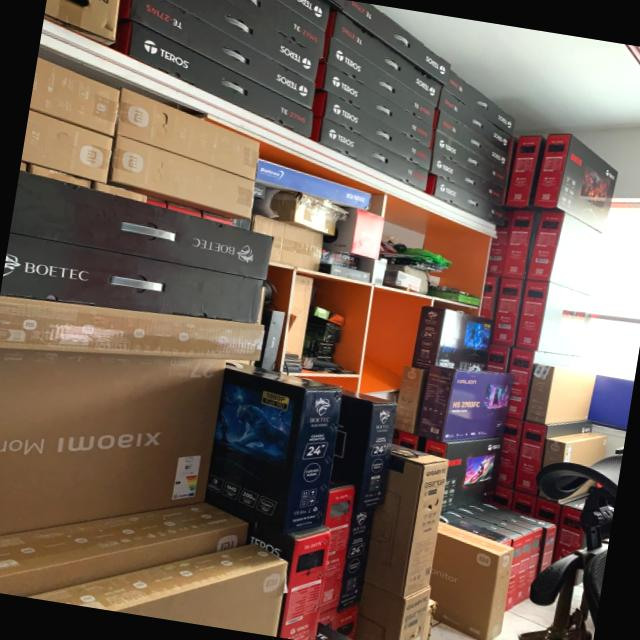caja-monitor: (0, 349, 224, 537), (11, 173, 275, 281), (26, 543, 288, 635), (0, 502, 250, 597), (204, 362, 342, 533), (1, 234, 266, 323), (115, 23, 313, 136), (119, 0, 315, 110), (0, 298, 265, 361), (119, 87, 259, 181), (162, 0, 317, 83), (364, 443, 448, 596), (113, 138, 253, 220), (327, 12, 443, 107), (429, 521, 513, 640), (322, 39, 435, 126), (317, 64, 432, 149), (249, 522, 330, 640), (314, 92, 431, 171), (342, 1, 450, 84), (312, 117, 428, 190), (525, 211, 616, 301), (535, 135, 620, 231), (332, 387, 399, 507), (444, 510, 523, 610), (455, 506, 533, 604), (466, 505, 544, 599), (30, 56, 120, 136), (417, 366, 512, 441), (22, 111, 111, 182), (517, 282, 599, 359), (424, 437, 504, 510), (474, 501, 555, 573), (514, 421, 592, 495), (228, 0, 324, 57), (412, 306, 494, 370), (508, 350, 580, 418), (437, 88, 512, 152), (433, 110, 509, 173), (445, 69, 516, 136), (321, 477, 355, 614), (352, 583, 430, 640), (525, 364, 597, 425), (433, 131, 507, 189), (425, 176, 506, 227), (432, 153, 504, 206), (339, 508, 374, 611), (506, 137, 544, 207), (503, 210, 540, 281), (439, 512, 511, 547), (544, 432, 607, 467), (493, 278, 524, 346), (396, 368, 427, 434), (555, 497, 586, 561), (497, 417, 523, 488), (277, 0, 330, 29), (488, 213, 511, 278), (481, 275, 501, 321), (511, 491, 537, 519), (488, 486, 515, 510), (536, 499, 560, 525)
